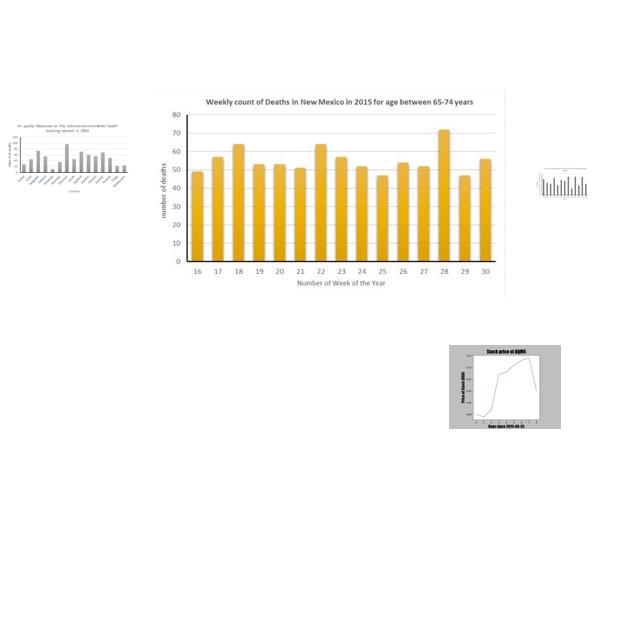Graph: (151, 88, 506, 297), (5, 121, 130, 197), (449, 345, 561, 429), (535, 167, 589, 201)
